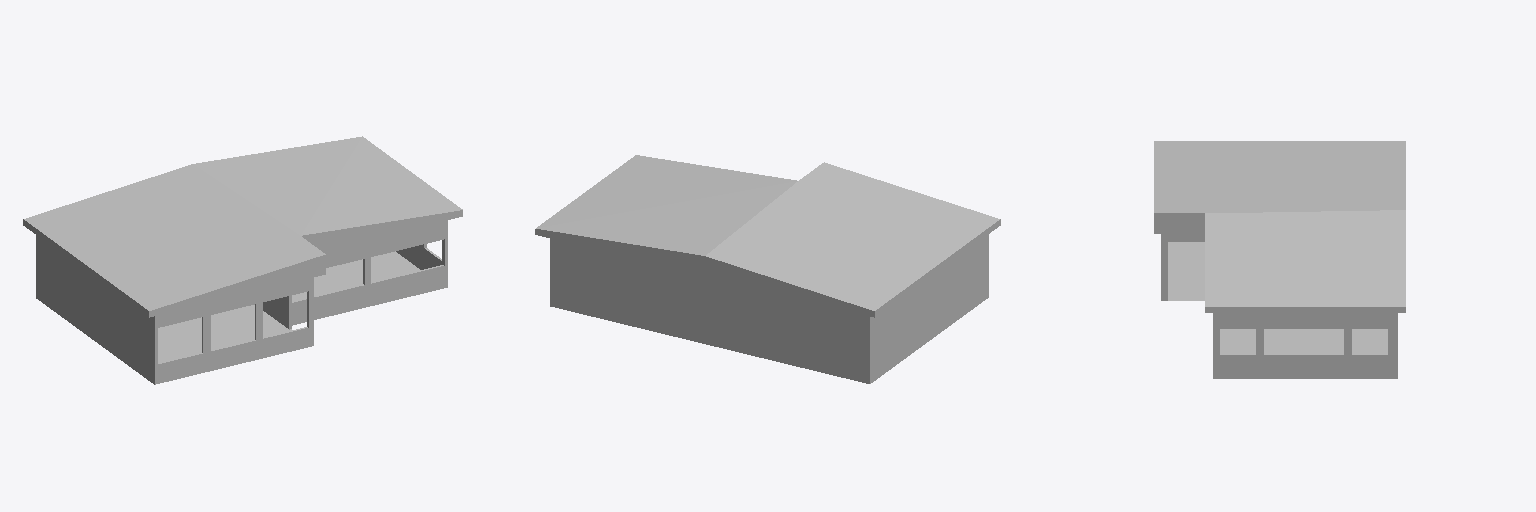
The model's file is Gaurdpostwalls.obj.
3 views of the same model, side by side, from view 1: azimuth 30°, elevation 25°; view 2: azimuth 150°, elevation 25°; view 3: azimuth 270°, elevation 25° (orthographic).
Parts seen in each view (by area): view 1: GaurdPostRoof, GaurdPostWalls5, GaurdPostWalls1, GaurdPostWalls4, GaurdPostWallsFloor, GaurdPostWalls6, GaurdPostWalls3; view 2: GaurdPostRoof, GaurdPostWalls2, GaurdPostWalls5; view 3: GaurdPostRoof, GaurdPostWalls3, GaurdPostWallsFloor, GaurdPostWalls6.
Part boxes in pixels (x1,y1,x2,y2): GaurdPostRoof: (23,136,462,317); GaurdPostWalls5: (39,237,152,382); GaurdPostWalls1: (153,278,311,384); GaurdPostWalls4: (292,220,447,325); GaurdPostWallsFloor: (158,251,419,362); GaurdPostWalls6: (263,278,313,345); GaurdPostWalls3: (396,240,442,269); GaurdPostRoof: (535,155,1000,317); GaurdPostWalls2: (550,239,872,383); GaurdPostWalls5: (873,236,986,381); GaurdPostRoof: (1154,141,1405,312); GaurdPostWalls3: (1216,313,1391,378); GaurdPostWallsFloor: (1168,242,1387,353); GaurdPostWalls6: (1161,234,1204,300).
Bounding box in the file's own units: 1485 × 384 × 955.